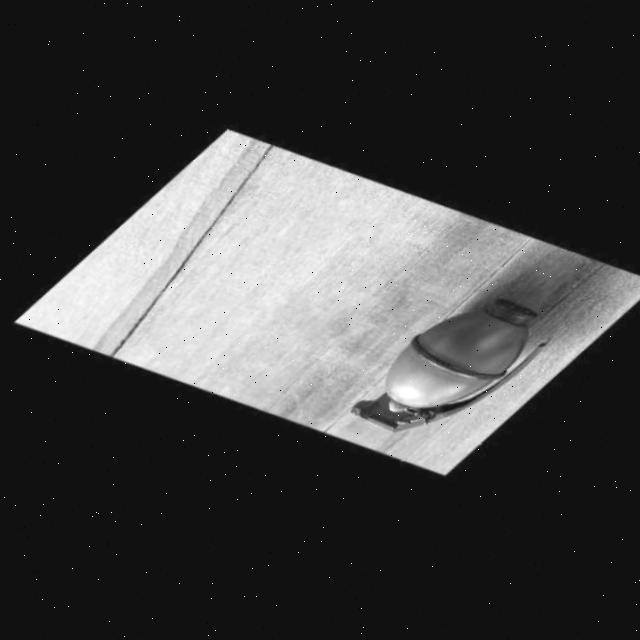grenade: (342, 291, 554, 442)
